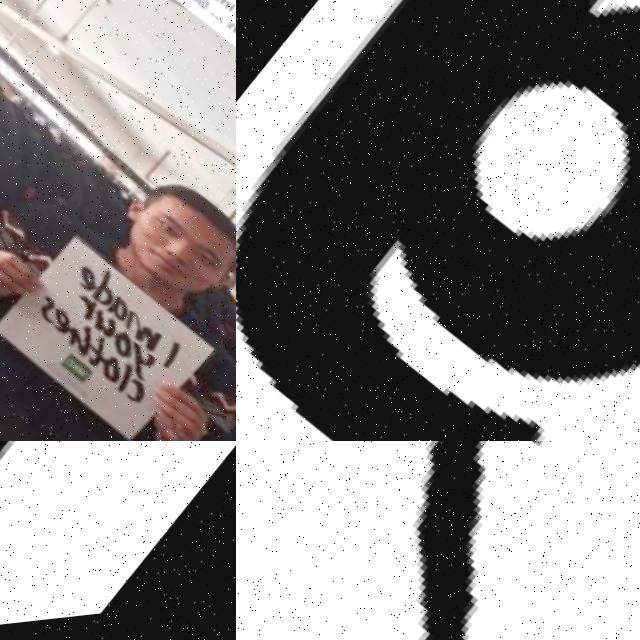8: (0, 441, 236, 617)
G: (236, 0, 640, 441)
J: (236, 441, 640, 640)
